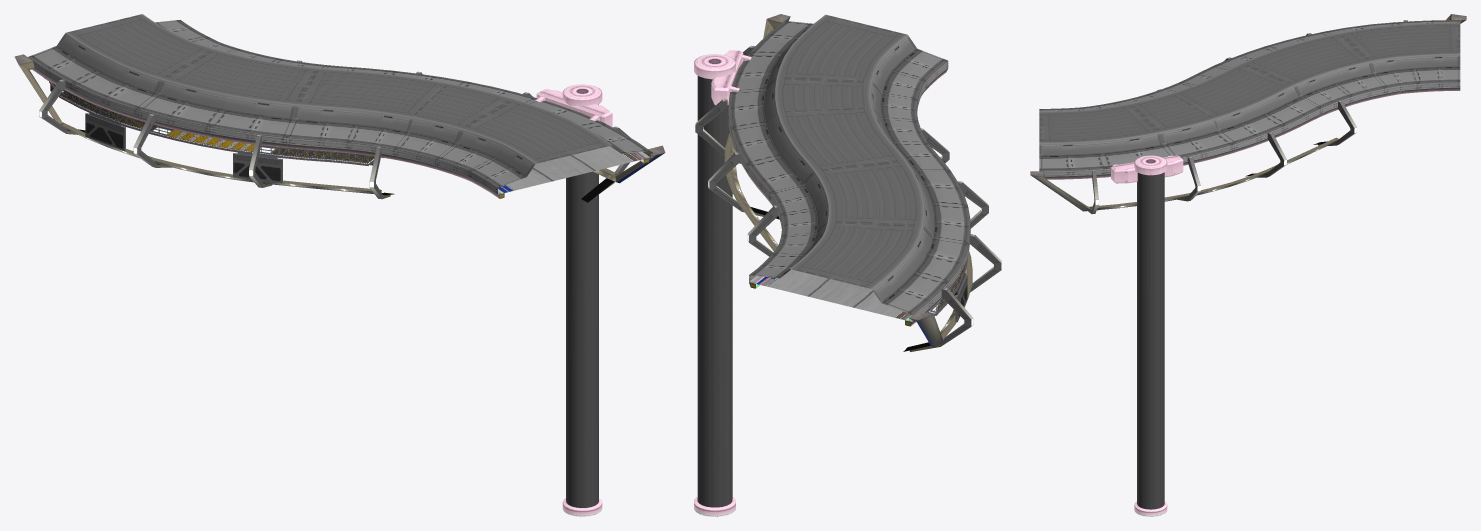
File: T32 - Magnetic.fbx
The picture shows the model from 3 angles, left to right: view 1: azimuth 30°, elevation 25°; view 2: azimuth 150°, elevation 25°; view 3: azimuth 270°, elevation 25°; orthographic projection. The views are drawn at different scales.
Parts seen in each view (by area): view 1: standard_bridge, support_pylon, mag_sbend_cage5, corner_arrows_steering_large1, visual_drift_road, wall_drift10, prop_billboard_right_1, prop_billboard_right, support_hinge_base, support_top; view 2: standard_bridge, support_pylon, mag_sbend_cage5, visual_drift_road, support_top, support_hinge_base, support_ground, wall_drift10; view 3: standard_bridge, support_pylon, mag_sbend_cage5, wall_drift10, support_hinge_base, support_top.
Boxes of the visible parts, x1,y1,x2,y2 form: standard_bridge: (28, 14, 650, 194); support_pylon: (566, 104, 598, 507); mag_sbend_cage5: (14, 54, 665, 199); corner_arrows_steering_large1: (44, 78, 383, 165); visual_drift_road: (415, 91, 643, 192); wall_drift10: (32, 68, 650, 198); prop_billboard_right_1: (233, 151, 282, 183); prop_billboard_right: (85, 111, 125, 150); support_hinge_base: (535, 89, 612, 126); support_top: (562, 84, 602, 105); standard_bridge: (728, 14, 970, 321); support_pylon: (697, 76, 732, 507); mag_sbend_cage5: (695, 14, 1001, 351); visual_drift_road: (756, 107, 911, 319); support_top: (694, 54, 735, 79); support_hinge_base: (711, 50, 751, 105); support_ground: (694, 497, 735, 516); wall_drift10: (740, 68, 964, 326); standard_bridge: (1039, 20, 1460, 176); support_pylon: (1137, 172, 1164, 509); mag_sbend_cage5: (1030, 14, 1466, 214); wall_drift10: (1045, 87, 1460, 179); support_hinge_base: (1111, 155, 1183, 183); support_top: (1134, 155, 1167, 175).
Size of the model in its own units: 12158 by 11804 by 13275.
